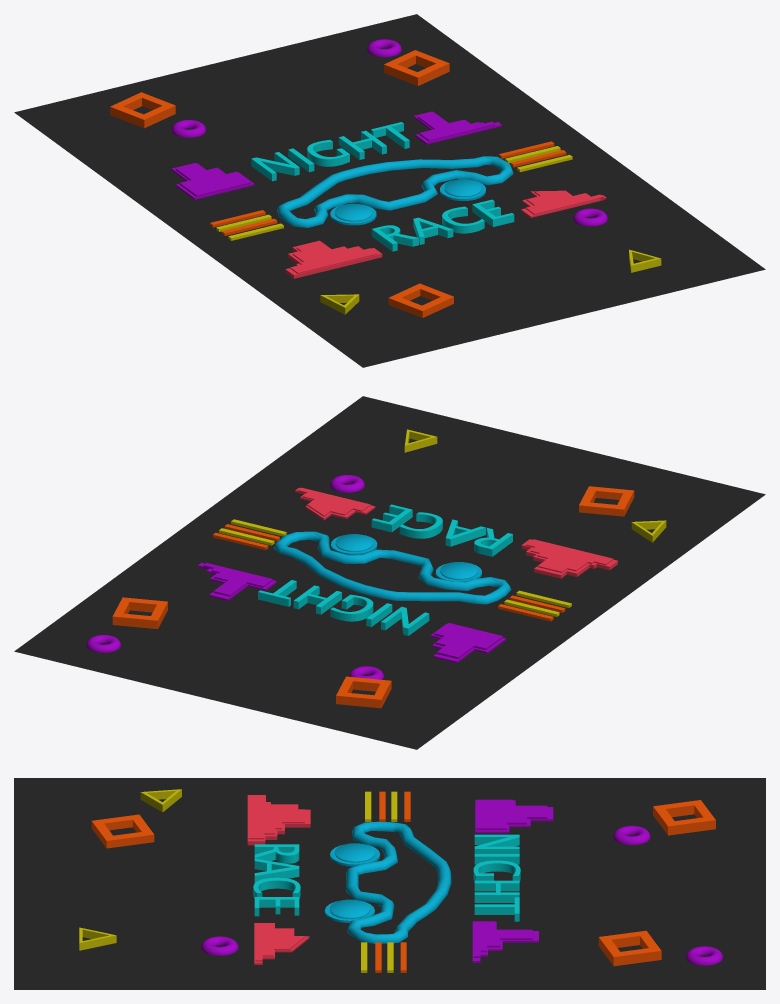
The model's file is Poster3M.fbx.
3 renders of one model, top to bottom at view 1: azimuth 30°, elevation 25°; view 2: azimuth 150°, elevation 25°; view 3: azimuth 270°, elevation 25°, orthographic. The views are drawn at different scales.
Parts seen in each view (by area): view 1: poster_3_backing, Auto, NIGHT_text2, RACE_text, voorgrond_shillouet, voorgrond_sh3, Vierkantjes, Vierkantje_2, Vierkantje_3, voorgrond_sh5, voorgrond_sh4, Gebouwtje_3; view 2: poster_3_backing, Auto, NIGHT_text2, RACE_text, voorgrond_sh3, voorgrond_shillouet, Vierkantjes, Vierkantje_2, Vierkantje_3, voorgrond_sh5, voorgrond_sh4, Gebouwtje_3; view 3: poster_3_backing, Auto, NIGHT_text2, RACE_text, voorgrond_shillouet, voorgrond_sh3, Vierkantje_2, Vierkantjes, Vierkantje_3, voorgrond_sh5, voorgrond_sh4, pCylinder4 (+10 smaller).
Part boxes in pixels (left/top/right/bottom): poster_3_backing: left=14, top=14, right=765, bottom=367; Auto: left=277, top=156, right=513, bottom=227; NIGHT_text2: left=251, top=122, right=409, bottom=181; RACE_text: left=371, top=199, right=514, bottom=251; voorgrond_shillouet: left=175, top=163, right=251, bottom=196; voorgrond_sh3: left=290, top=241, right=377, bottom=273; Vierkantjes: left=110, top=92, right=175, bottom=128; Vierkantje_2: left=384, top=50, right=449, bottom=85; Vierkantje_3: left=388, top=283, right=453, bottom=317; voorgrond_sh5: left=417, top=112, right=495, bottom=141; voorgrond_sh4: left=525, top=190, right=603, bottom=214; Gebouwtje_3: left=285, top=240, right=382, bottom=278; poster_3_backing: left=14, top=396, right=765, bottom=749; Auto: left=273, top=531, right=511, bottom=604; NIGHT_text2: left=258, top=580, right=429, bottom=635; RACE_text: left=371, top=504, right=512, bottom=556; voorgrond_sh3: left=526, top=539, right=613, bottom=572; voorgrond_shillouet: left=434, top=623, right=502, bottom=658; Vierkantjes: left=336, top=676, right=391, bottom=708; Vierkantje_2: left=112, top=597, right=167, bottom=629; Vierkantje_3: left=579, top=486, right=634, bottom=516; voorgrond_sh5: left=203, top=563, right=272, bottom=596; voorgrond_sh4: left=298, top=487, right=370, bottom=516; Gebouwtje_3: left=521, top=539, right=617, bottom=578; poster_3_backing: left=14, top=778, right=765, bottom=989; Auto: left=346, top=821, right=451, bottom=943; NIGHT_text2: left=473, top=834, right=520, bottom=921; RACE_text: left=253, top=844, right=300, bottom=916; voorgrond_shillouet: left=476, top=799, right=547, bottom=830; voorgrond_sh3: left=248, top=796, right=304, bottom=839; Vierkantje_2: left=598, top=930, right=661, bottom=966; Vierkantjes: left=653, top=800, right=715, bottom=835; Vierkantje_3: left=91, top=814, right=154, bottom=848; voorgrond_sh5: left=473, top=921, right=532, bottom=959; voorgrond_sh4: left=255, top=924, right=305, bottom=961; pCylinder4: left=330, top=899, right=369, bottom=918.
Bounding box in the file's own units: 400 × 16.19 × 600.
1 material, 1 textured.
